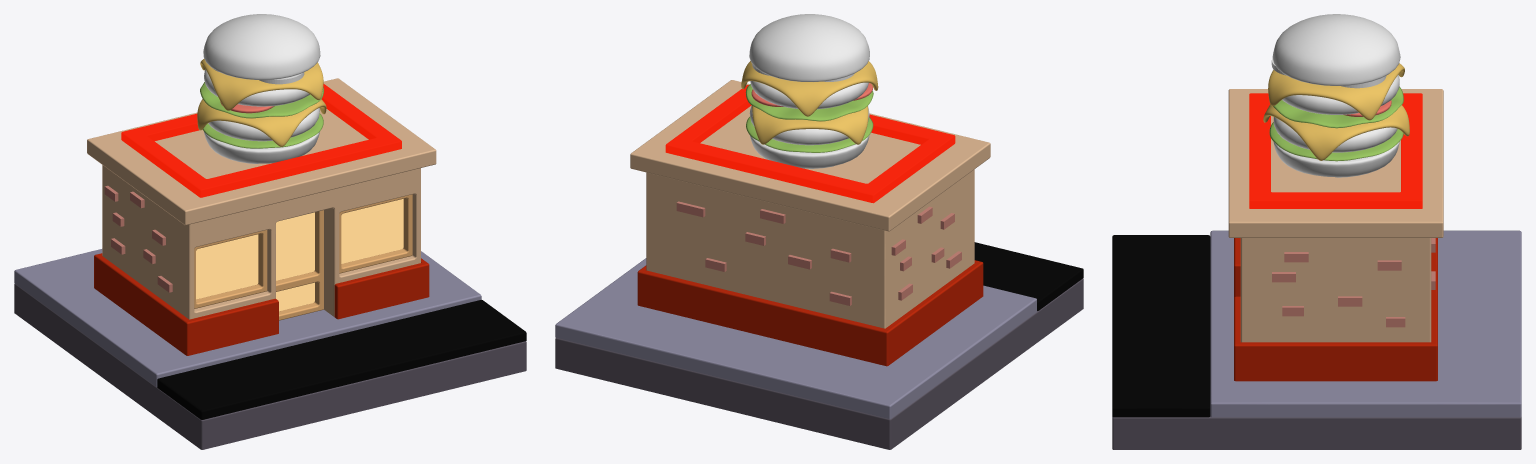
3 views of the same model, side by side, from view 1: azimuth 30°, elevation 25°; view 2: azimuth 150°, elevation 25°; view 3: azimuth 270°, elevation 25° (orthographic). The views are drawn at different scales.
Parts seen in each view (by area): view 1: Plane.004, Plane.002, Plane, Plane.005, Plane.001, Plane.008, Plane.003, topbun, Plane.006, Cheese.001, Cheese.002, Plane.007 (+6 smaller); view 2: Plane.004, Plane.001, Plane, Plane.005, Plane.008, Plane.003, topbun, Plane.002, bricks, Cheese.001, Cheese.002, bottomBun (+4 smaller); view 3: Plane.001, Plane.004, Plane.002, Plane.005, Plane, Plane.008, topbun, Plane.003, Cheese.001, Cheese.002, bottomBun, bricks (+4 smaller).
Boxes of the visible parts, left/top/right/bottom form: Plane.004: left=102, top=165, right=420, bottom=319; Plane.002: left=157, top=299, right=526, bottom=419; Plane: left=14, top=284, right=526, bottom=449; Plane.005: left=87, top=78, right=436, bottom=225; Plane.001: left=14, top=249, right=481, bottom=386; Plane.008: left=94, top=253, right=429, bottom=355; Plane.003: left=121, top=84, right=401, bottom=197; topbun: left=203, top=14, right=320, bottom=79; Plane.006: left=194, top=194, right=412, bottom=308; Cheese.001: left=200, top=59, right=323, bottom=110; Cheese.002: left=197, top=99, right=326, bottom=146; Plane.007: left=276, top=210, right=323, bottom=320; Plane.004: left=646, top=169, right=974, bottom=328; Plane.001: left=555, top=258, right=1036, bottom=418; Plane: left=555, top=278, right=1083, bottom=449; Plane.005: left=630, top=80, right=990, bottom=231; Plane.008: left=637, top=260, right=983, bottom=366; Plane.003: left=665, top=85, right=955, bottom=203; topbun: left=749, top=14, right=869, bottom=81; Plane.002: left=974, top=242, right=1083, bottom=310; bricks: left=676, top=201, right=961, bottom=305; Cheese.001: left=741, top=61, right=878, bottom=116; Cheese.002: left=752, top=105, right=868, bottom=144; bottomBun: left=749, top=135, right=869, bottom=168; Plane.001: left=1210, top=230, right=1521, bottom=417; Plane.004: left=1240, top=238, right=1431, bottom=342; Plane.002: left=1112, top=235, right=1210, bottom=417; Plane.005: left=1228, top=89, right=1443, bottom=237; Plane: left=1112, top=416, right=1521, bottom=449; Plane.008: left=1234, top=238, right=1437, bottom=381; topbun: left=1272, top=14, right=1400, bottom=85; Plane.003: left=1249, top=93, right=1422, bottom=208; Cheese.001: left=1268, top=63, right=1404, bottom=120; Cheese.002: left=1263, top=104, right=1409, bottom=160; bottomBun: left=1273, top=141, right=1399, bottom=177; bricks: left=1272, top=238, right=1435, bottom=327.
Size of the model in its own units: 8 by 7.34 by 8.
